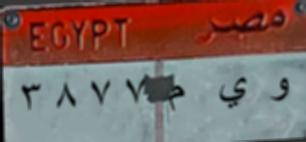3: (18, 78, 43, 115)
7: (122, 74, 148, 109), (89, 76, 115, 109)
8: (56, 79, 79, 116)
meem: (166, 82, 189, 115)
waw: (269, 71, 291, 110)
yaa: (219, 70, 252, 115)
